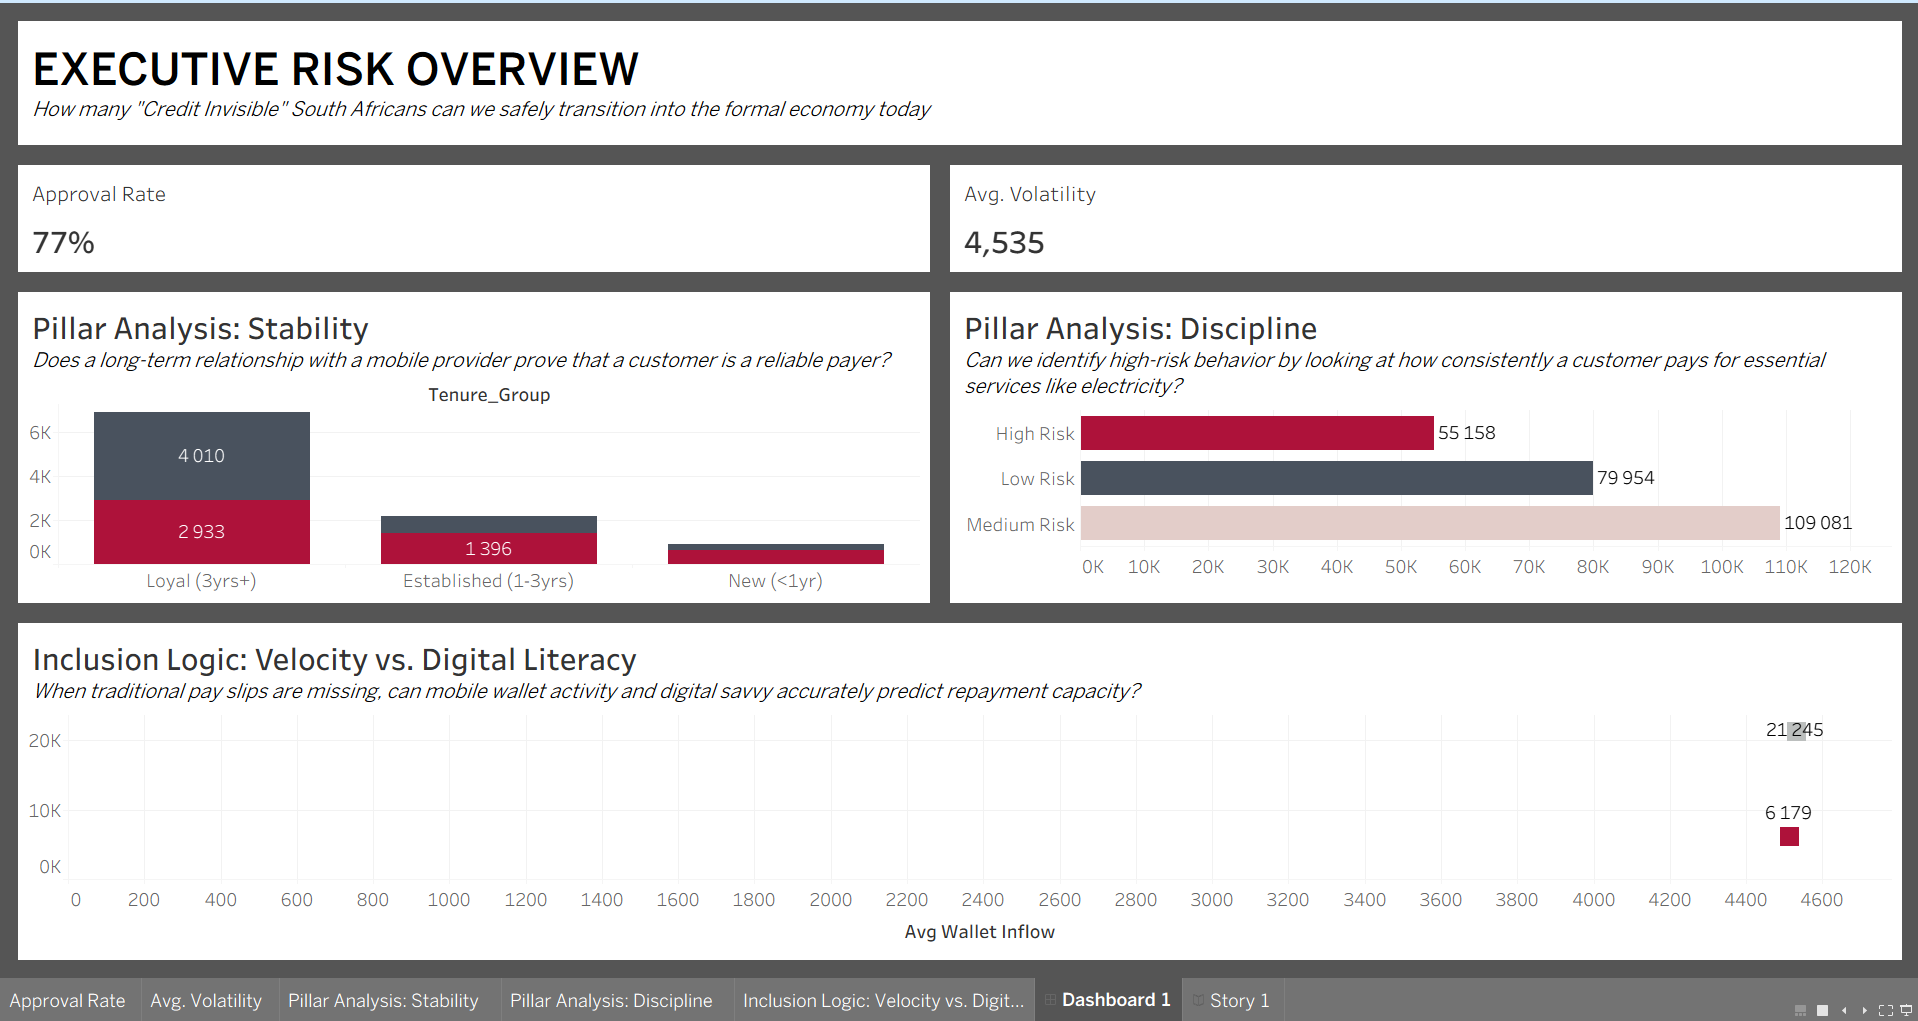

This screenshot's page, from the dashboard's own definition file:
{"tool":"tableau","page":{"name":"Dashboard 1","canvas":[1000,1000],"units":"permille","ordinal":0},"visuals":[{"type":"text","box":[5,9.6,990,146.9]},{"type":"worksheet","title":"Approval Rate","mark":"Automatic","box":[5,156.4,484.4,130.6]},{"type":"worksheet","title":"Avg. Volatility","mark":"Automatic","box":[489.4,156.4,505.6,130.6]},{"type":"worksheet","title":"Pillar Analysis: Stability","mark":"Automatic","rows":["Applicant_ID"],"cols":["Calculation_1265031060594690"],"box":[5,287,484.4,338.6]},{"type":"worksheet","title":"Pillar Analysis: Discipline","mark":"Automatic","rows":["Calculation_1265031060115456"],"cols":["Electricity_Payment_Gap_Days"],"box":[489.4,287,505.6,338.6]},{"type":"worksheet","title":"Inclusion Logic: Velocity vs. Digital Literacy","mark":"Square","rows":["Data_Voice_Ratio"],"cols":["Avg_Wallet_Inflow"],"box":[5,625.6,990,364.9]}]}

Visuals, with their boxes on the dashboard's canvas, which has no fixed pixel size, in thousandths of its width and height (x1, y1, x2, y2). These are canvas units, not pixel positions in the 1918x1021 screenshot, which may show the page scaled, cropped or inside an application window:
text: bbox(5, 10, 995, 156)
"Approval Rate" worksheet: bbox(5, 156, 489, 287)
"Avg. Volatility" worksheet: bbox(489, 156, 995, 287)
"Pillar Analysis: Stability" worksheet: bbox(5, 287, 489, 626)
"Pillar Analysis: Discipline" worksheet: bbox(489, 287, 995, 626)
"Inclusion Logic: Velocity vs. Digital Literacy" worksheet (Square marks): bbox(5, 626, 995, 990)
